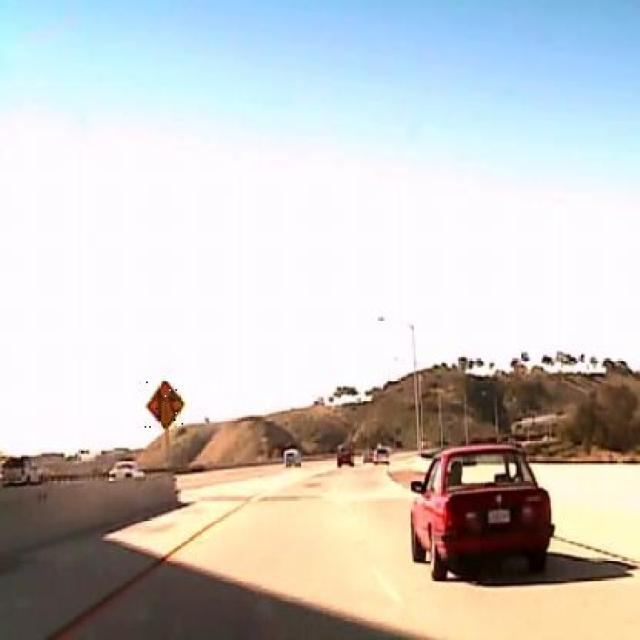addedLane: (144, 377, 184, 429)
